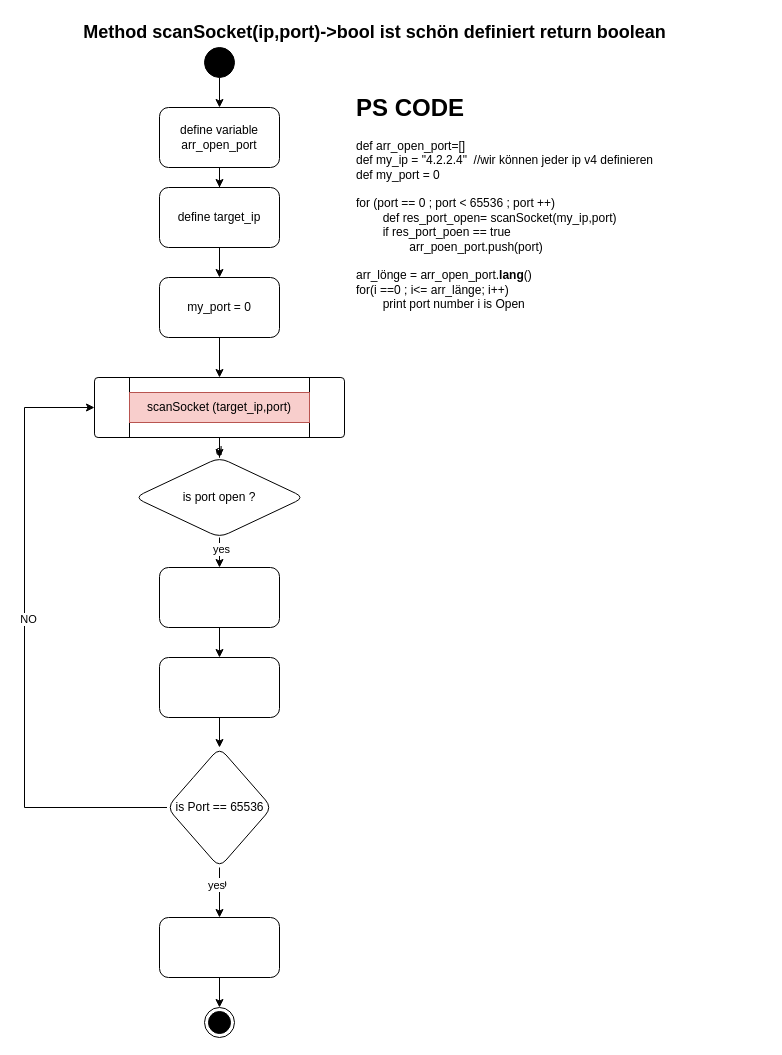
This 782x1055 diagram has some shape labels left out. Each missing label, with the centre of its shape:
"port number +1 port ++ port = port+1" goes at point 219,687.
"print arr_open_port" goes at point 219,947.
"push port to arr_open_port" goes at point 219,597.
